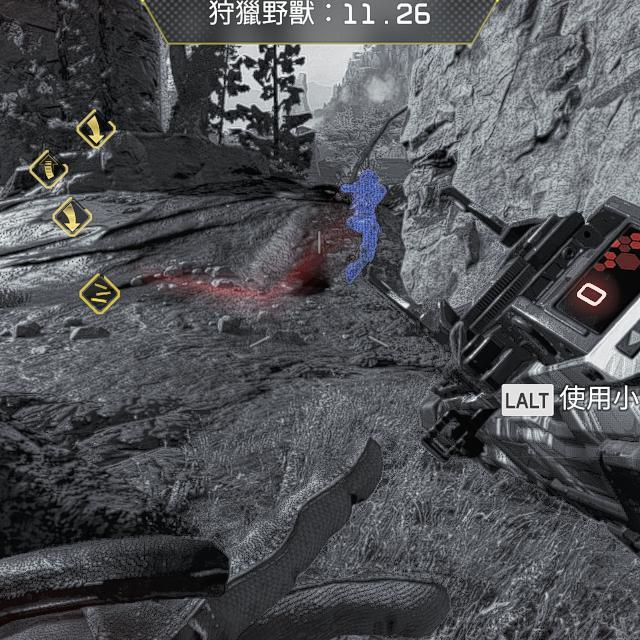avatar: (339, 169, 388, 282)
